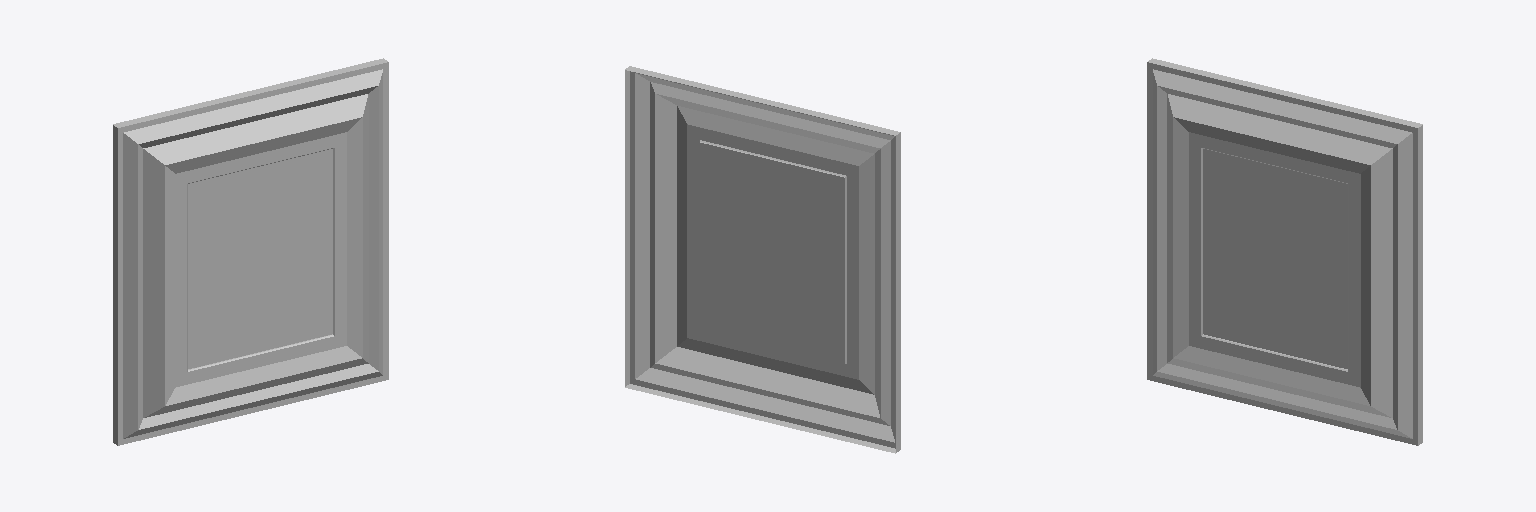
The model's file is painting_1.obj.
3 views of the same model, side by side, from view 1: azimuth 30°, elevation 25°; view 2: azimuth 150°, elevation 25°; view 3: azimuth 330°, elevation 25° (orthographic).
Parts seen in each view (by area): view 1: painting_1; view 2: painting_1; view 3: painting_1.
Boxes of the visible parts, x1=… form: painting_1: x1=113, y1=58, x2=388, y2=445; painting_1: x1=625, y1=66, x2=900, y2=453; painting_1: x1=1147, y1=58, x2=1422, y2=445.
Bounding box in the file's own units: 0.6105 × 0.684 × 0.0616.